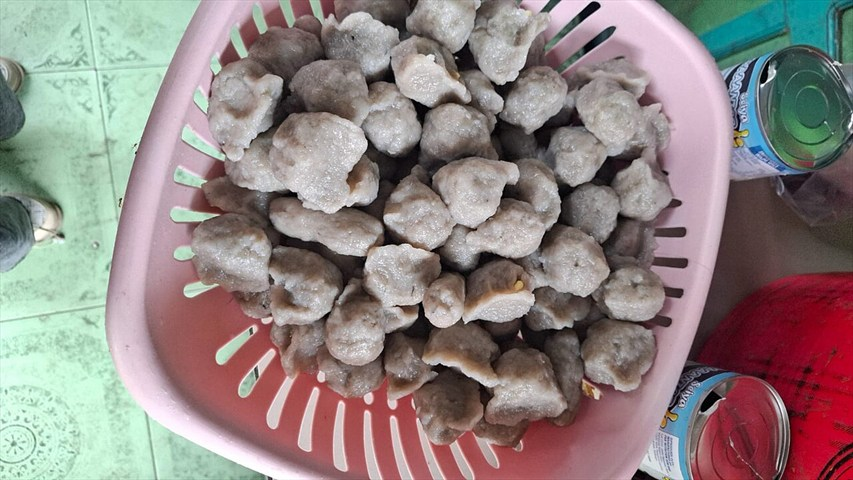Pempek: (183, 35, 798, 453)
